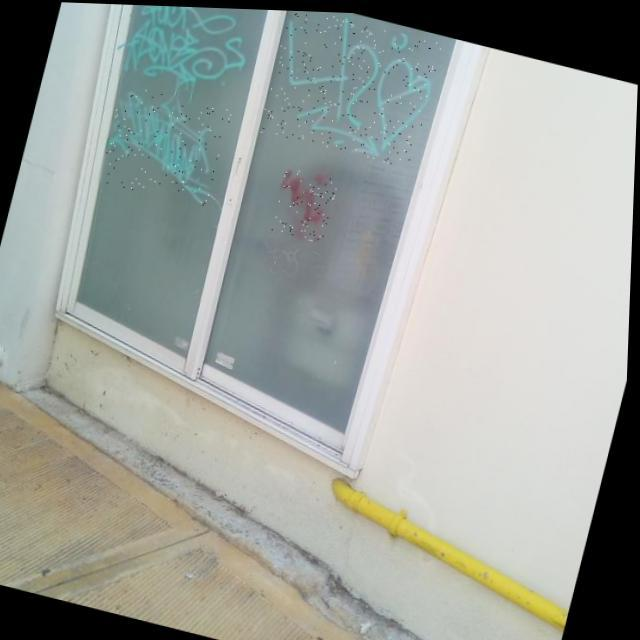-: (259, 8, 443, 167), (97, 81, 234, 207), (116, 3, 262, 104), (272, 164, 340, 242)
